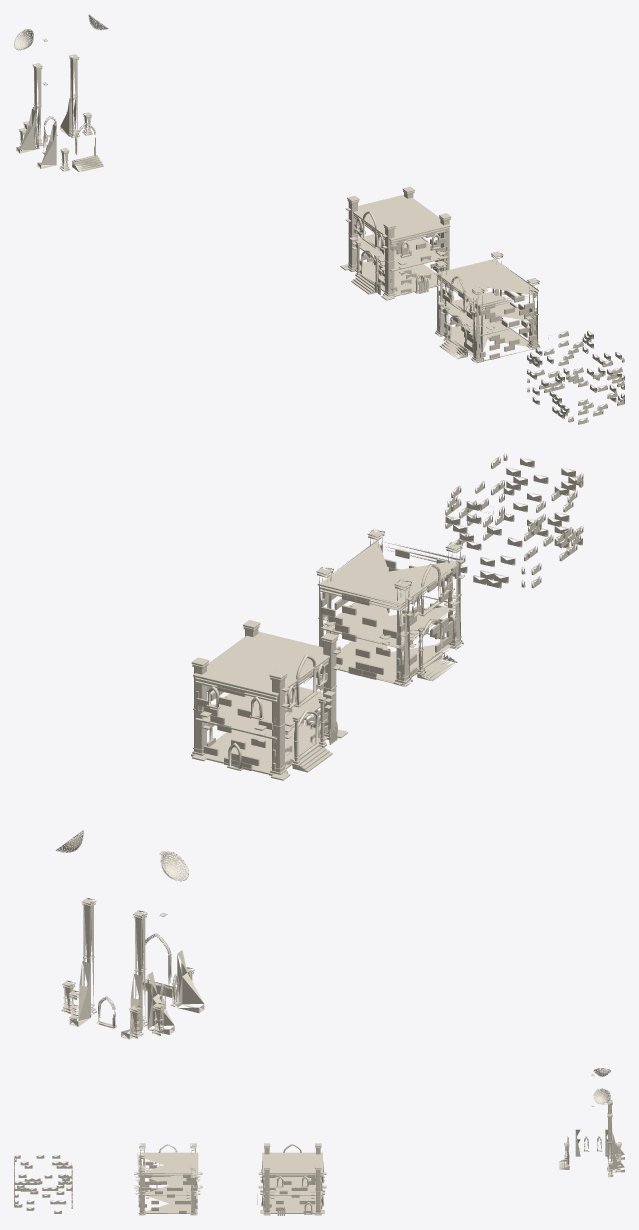
Rendered from Neris-11.glb.
The picture shows the model from 3 angles, top to bottom: view 1: azimuth 30°, elevation 25°; view 2: azimuth 150°, elevation 25°; view 3: azimuth 270°, elevation 25°; orthographic projection. The views are drawn at different scales.
Visible parts, largest first — view 1: Pale Carved Stone.001, Limestone Block Tone 4.001; view 2: Pale Carved Stone.001, Limestone Block Tone 4.001; view 3: Pale Carved Stone.001, Limestone Block Tone 4.001.
Part boxes in pixels (x1=…): Pale Carved Stone.001: x1=14, y1=14, x2=540, y2=363; Limestone Block Tone 4.001: x1=354, y1=221, x2=624, y2=424; Pale Carved Stone.001: x1=55, y1=529, x2=464, y2=1039; Limestone Block Tone 4.001: x1=196, y1=453, x2=583, y2=770; Pale Carved Stone.001: x1=134, y1=1068, x2=624, y2=1215; Limestone Block Tone 4.001: x1=14, y1=1155, x2=322, y2=1213.
Size of the model in its own units: 28.6 by 17.06 by 108.
